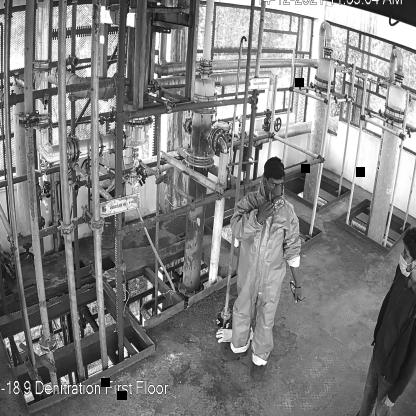mask: (270, 187, 286, 211)
no_glove: (289, 263, 305, 306), (257, 198, 274, 230)
no_goggles: (268, 179, 284, 189)
